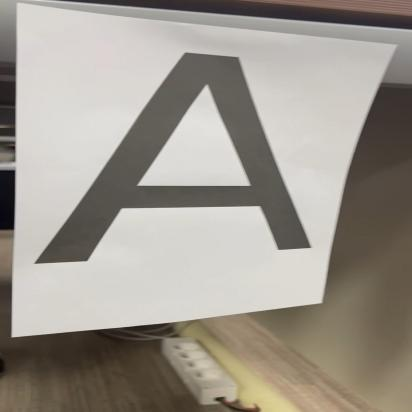seat: (39, 49, 326, 272)
